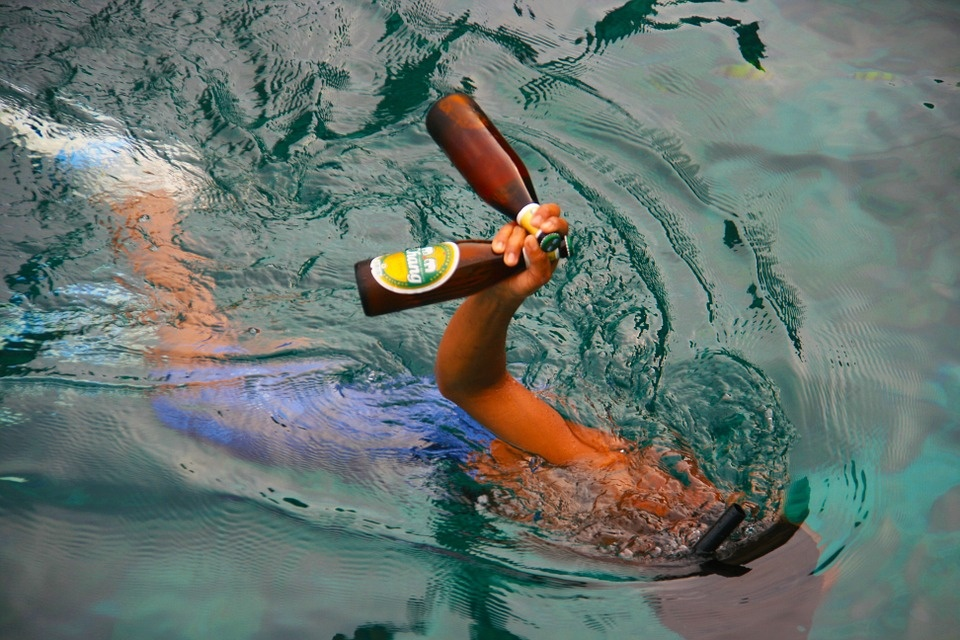beerBottle: (422, 95, 553, 241), (342, 237, 574, 318)
